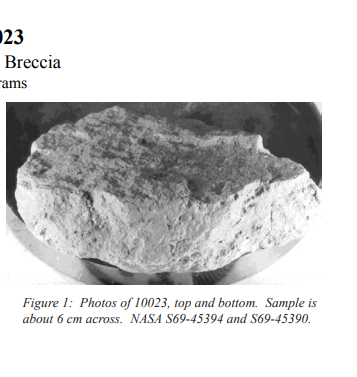Breccia: (10, 108, 333, 268)
